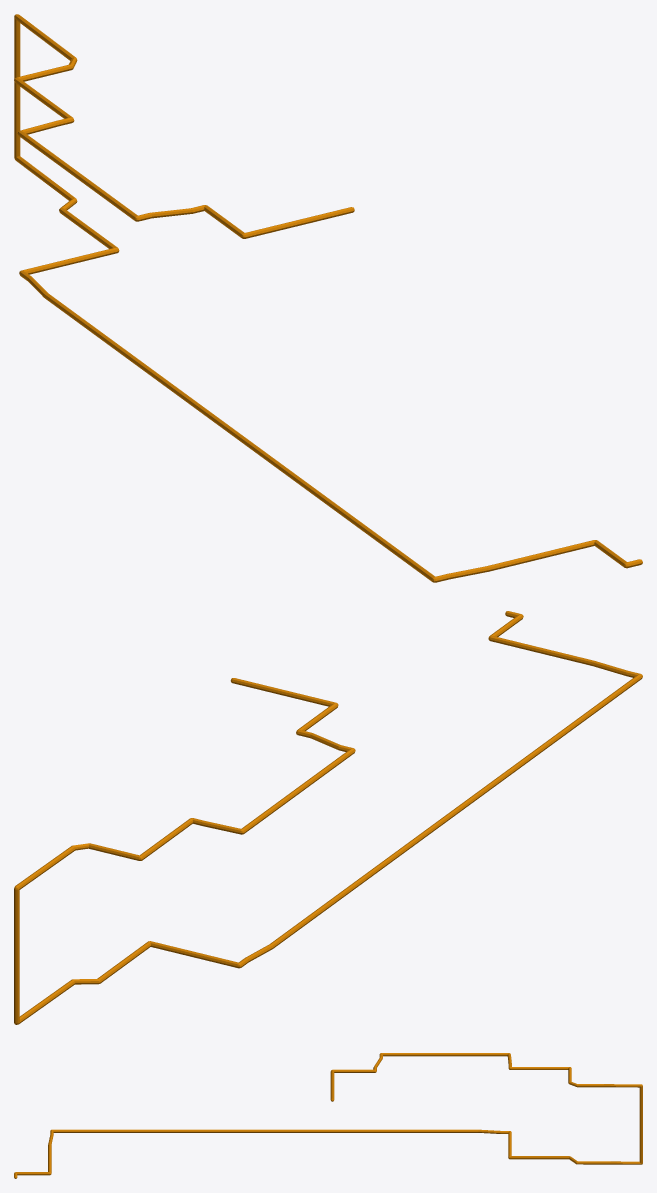
3 renders of one model, top to bottom at view 1: azimuth 30°, elevation 25°; view 2: azimuth 150°, elevation 25°; view 3: azimuth 270°, elevation 25°, orthographic. The views are drawn at different scales.
Size of the model in its own units: 661 by 520 by 3687.
